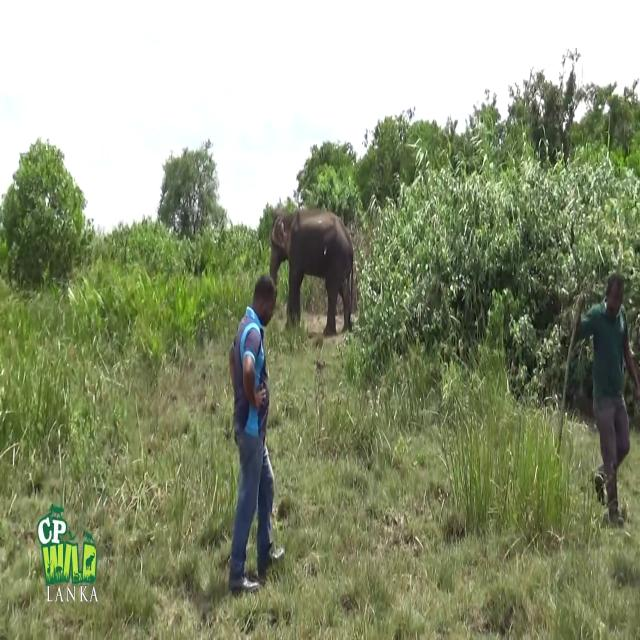Elephant: (269, 208, 358, 336)
person: (228, 274, 285, 598), (576, 272, 640, 528)
